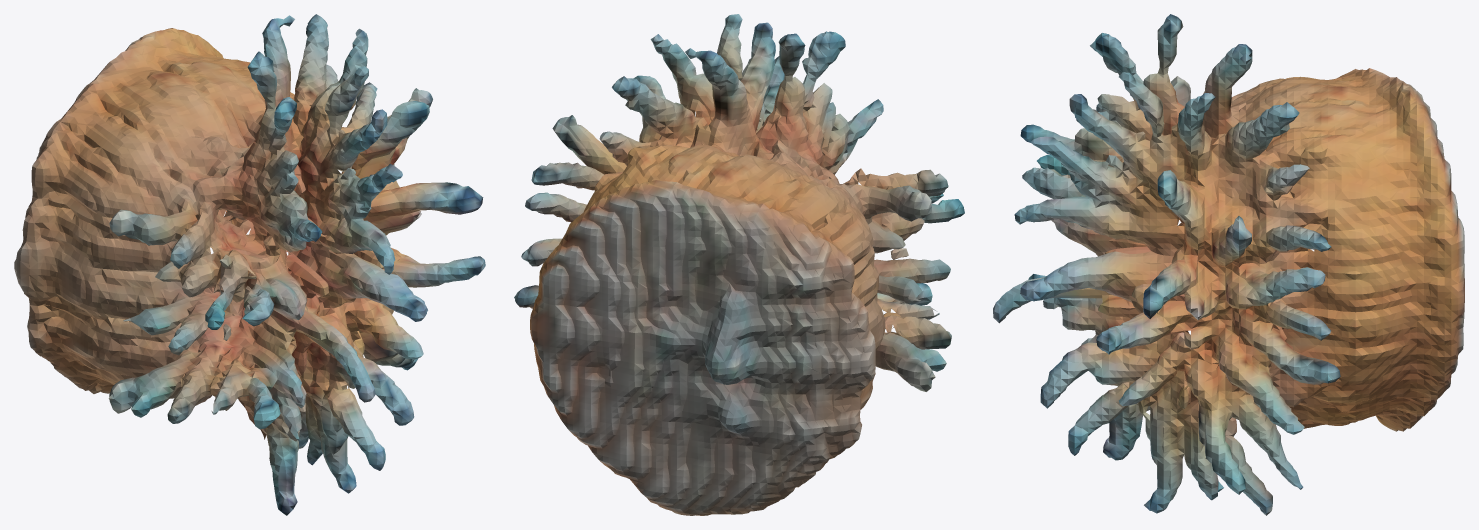
The model's file is coral-anemone-triposr-01.glb.
The picture shows the model from 3 angles, left to right: view 1: azimuth 30°, elevation 25°; view 2: azimuth 150°, elevation 25°; view 3: azimuth 270°, elevation 25°; orthographic projection. The views are drawn at different scales.
Visible parts, largest first — view 1: world; view 2: world; view 3: world.
Boxes of the visible parts, <box> form: world: <box>14,14,485,515</box>; world: <box>514,14,964,515</box>; world: <box>993,14,1464,515</box>.
Bounding box in the file's own units: 0.8758 × 1.01 × 0.9439.
